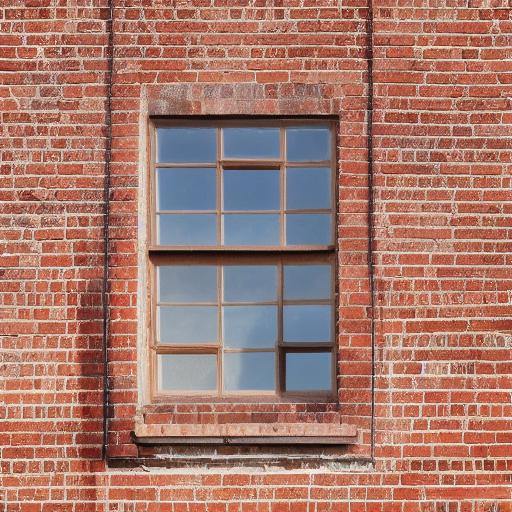Window: (134, 77, 360, 451)
